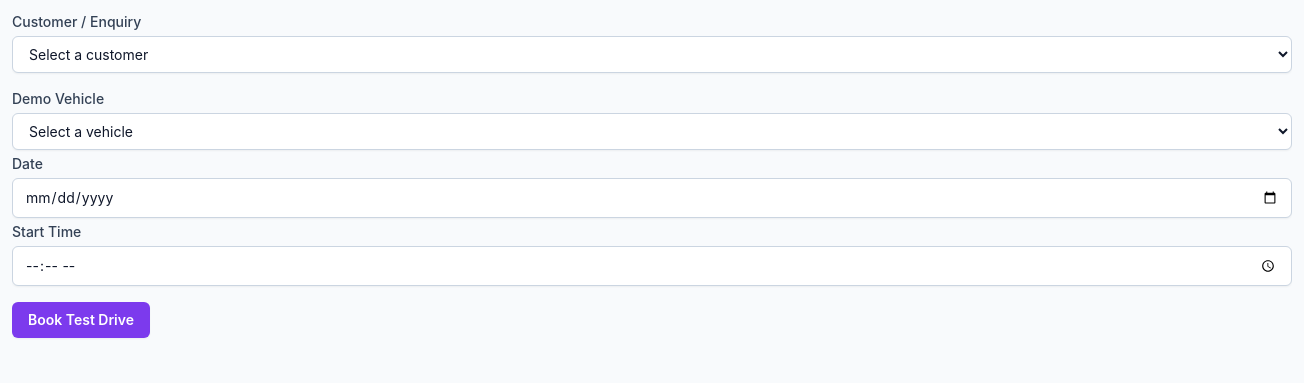
Scenario: NewTestDriveForm › AC2: maps a server 400 operating-hours field error (slotStart) onto the time field
Select "Walk-in Customer — LX" in the dropdown labelled "Customer / Enquiry" at [652, 54], box x1=12 y1=36 x2=1292 y2=73
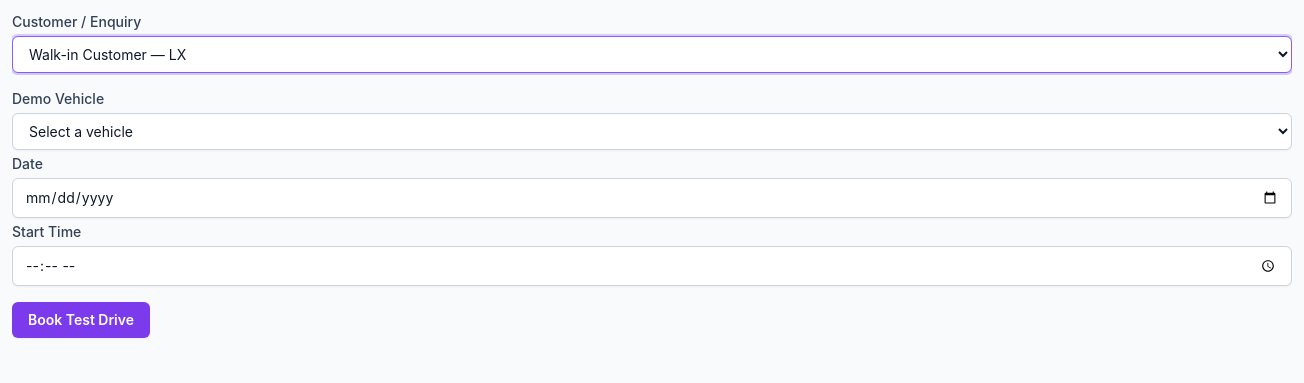
Select "Compact Hatchback LX — LX" in the dropdown labelled "Demo Vehicle" at [652, 132], box x1=12 y1=113 x2=1292 y2=150
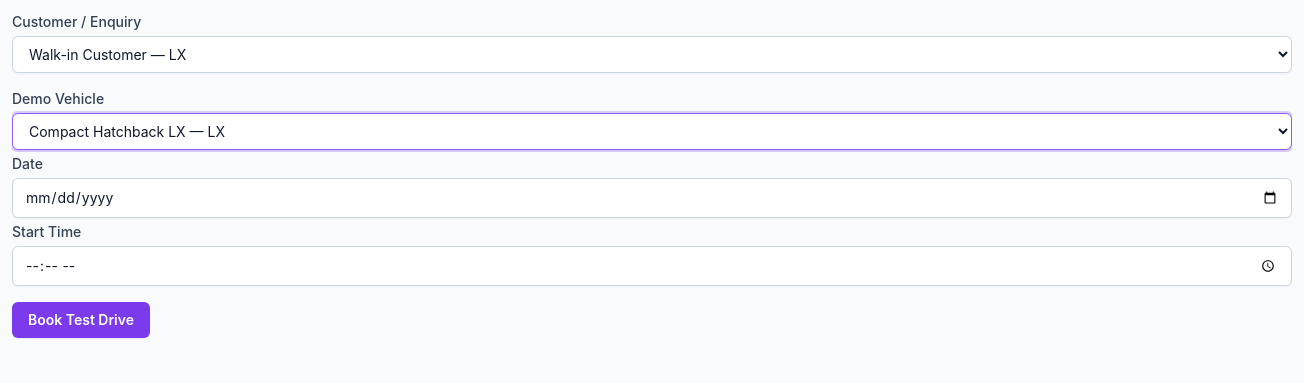
Type "2026-08-01" into the date field labelled "Date".
click(652, 198); type("2026-08-01")  # box x1=12 y1=178 x2=1292 y2=218
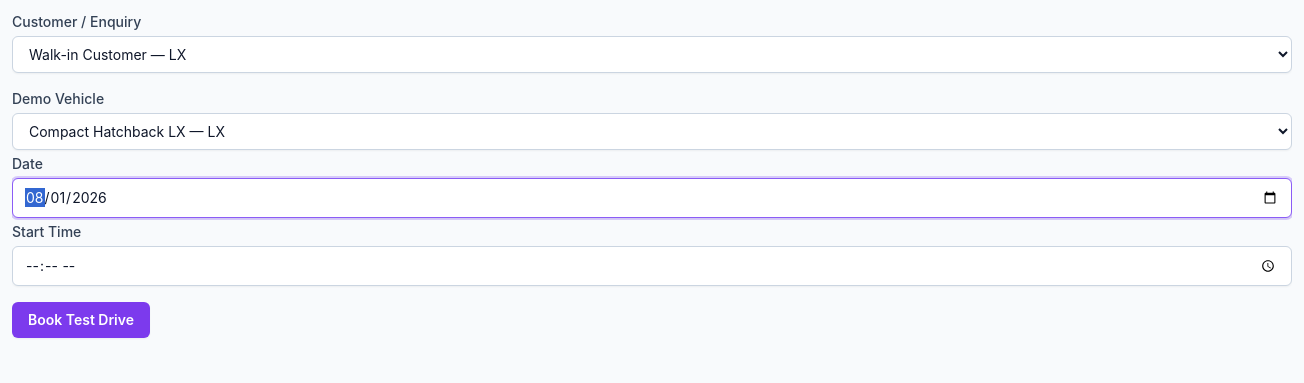
Type "05:00" into the time field labelled "Start Time".
click(652, 266); type("05:00")  # box x1=12 y1=246 x2=1292 y2=286
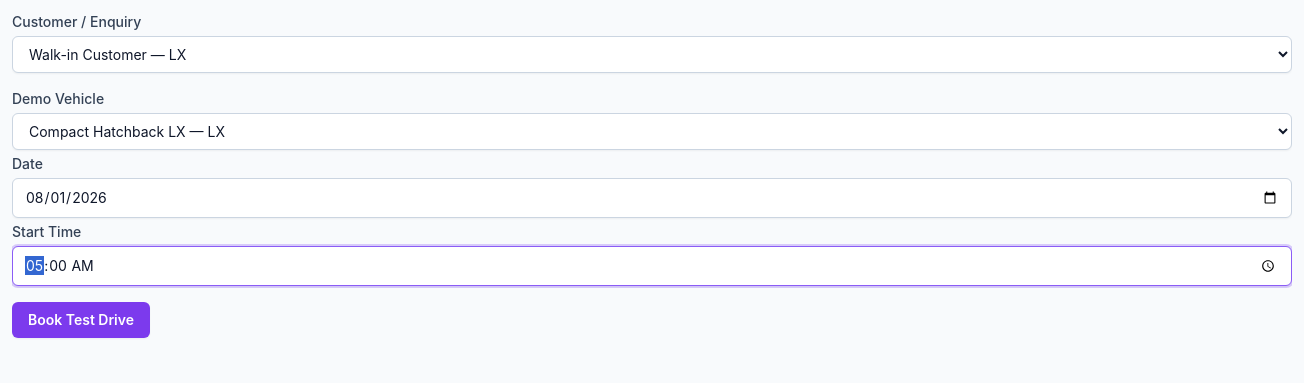
Click the button "Book Test Drive".
click(81, 320)  # box x1=12 y1=302 x2=150 y2=338
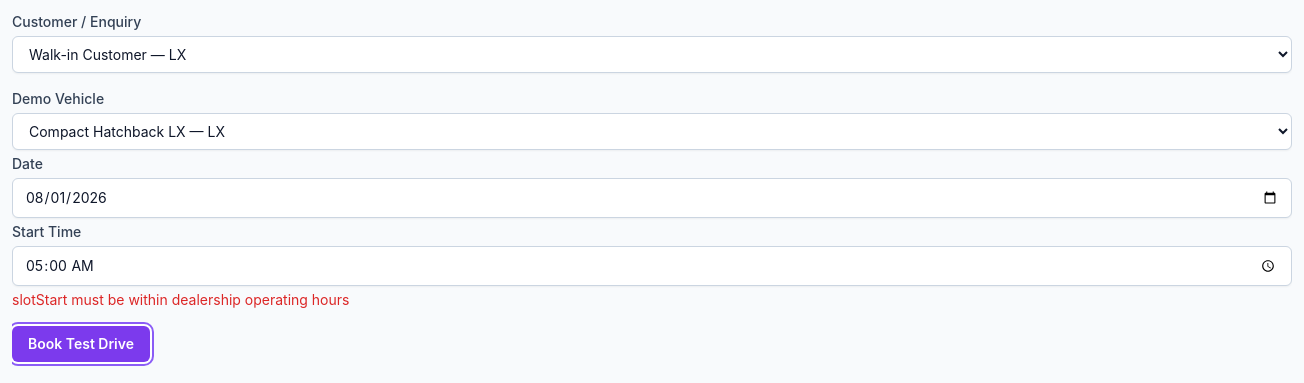
Check: the text "slotStart must be within dealership operating hours" is shown, box x1=12 y1=291 x2=350 y2=308
